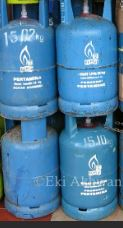blue_gas: (56, 1, 118, 115), (1, 1, 58, 118), (60, 116, 118, 220), (1, 117, 60, 219)
